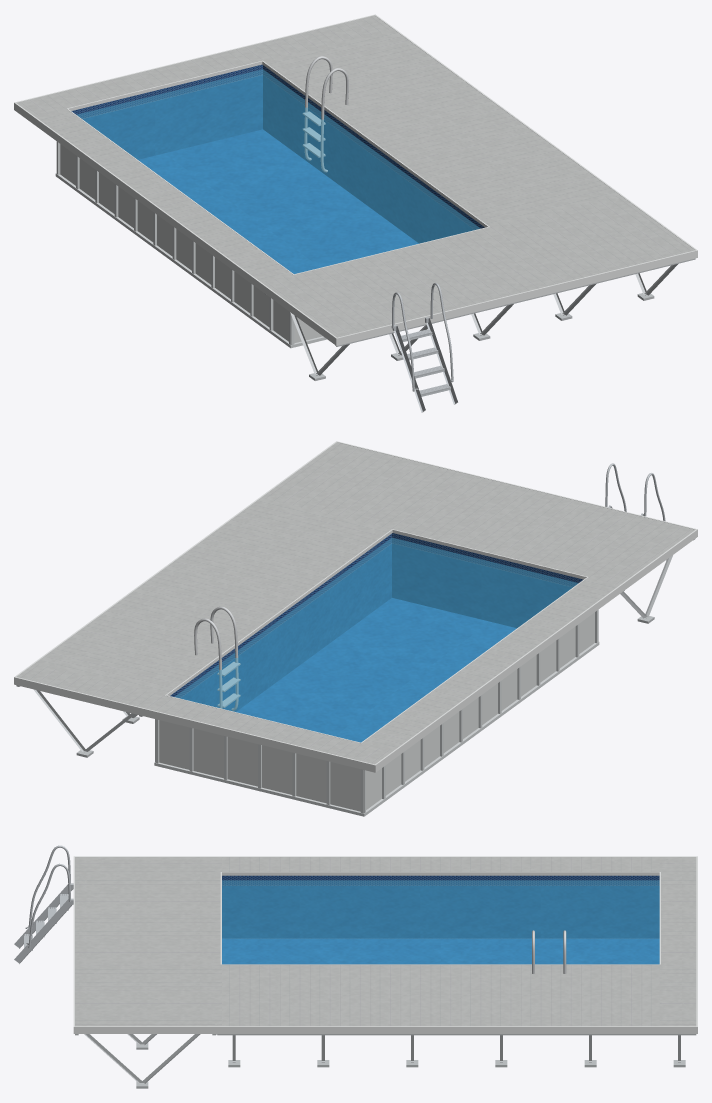
The model's file is kayak-pool-12x24-white-endside-ag-nofence.98dee5625d.glb.
The picture shows the model from 3 angles, top to bottom: view 1: azimuth 30°, elevation 25°; view 2: azimuth 150°, elevation 25°; view 3: azimuth 270°, elevation 25°; orthographic projection. The views are drawn at different scales.
Visible parts, largest first — view 1: deck, water, liner_wall, liner_floor, fascia, wall, upright, stud, ladder, steel; view 2: deck, water, liner_wall, liner_floor, wall, fascia, upright, stud, steel, ladder; view 3: deck, water, liner_wall, liner_floor, fascia, stud, ladder.
Boxes of the visible parts, left/top/right/bottom form: deck: left=17, top=15, right=694, bottom=337; water: left=77, top=69, right=480, bottom=273; liner_wall: left=71, top=64, right=484, bottom=243; liner_floor: left=138, top=129, right=418, bottom=273; fascia: left=14, top=14, right=697, bottom=345; wall: left=60, top=144, right=322, bottom=343; upright: left=55, top=141, right=326, bottom=348; stud: left=264, top=258, right=695, bottom=380; ladder: left=391, top=283, right=457, bottom=412; steel: left=302, top=56, right=348, bottom=172; deck: left=17, top=442, right=695, bottom=764; water: left=175, top=537, right=577, bottom=742; liner_wall: left=170, top=533, right=583, bottom=711; liner_floor: left=236, top=598, right=516, bottom=742; wall: left=159, top=612, right=594, bottom=811; fascia: left=14, top=441, right=697, bottom=772; upright: left=154, top=610, right=599, bottom=816; stud: left=16, top=538, right=695, bottom=757; steel: left=194, top=606, right=240, bottom=710; ladder: left=605, top=463, right=666, bottom=560; deck: left=75, top=857, right=696, bottom=1026; water: left=222, top=880, right=659, bottom=964; liner_wall: left=222, top=875, right=659, bottom=938; liner_floor: left=222, top=938, right=659, bottom=964; fascia: left=73, top=856, right=697, bottom=1033; stud: left=75, top=1034, right=696, bottom=1088; ladder: left=14, top=845, right=73, bottom=963.
Size of the model in its own units: 6.71 by 1.9 by 11.35.
10 materials, 3 textured.
